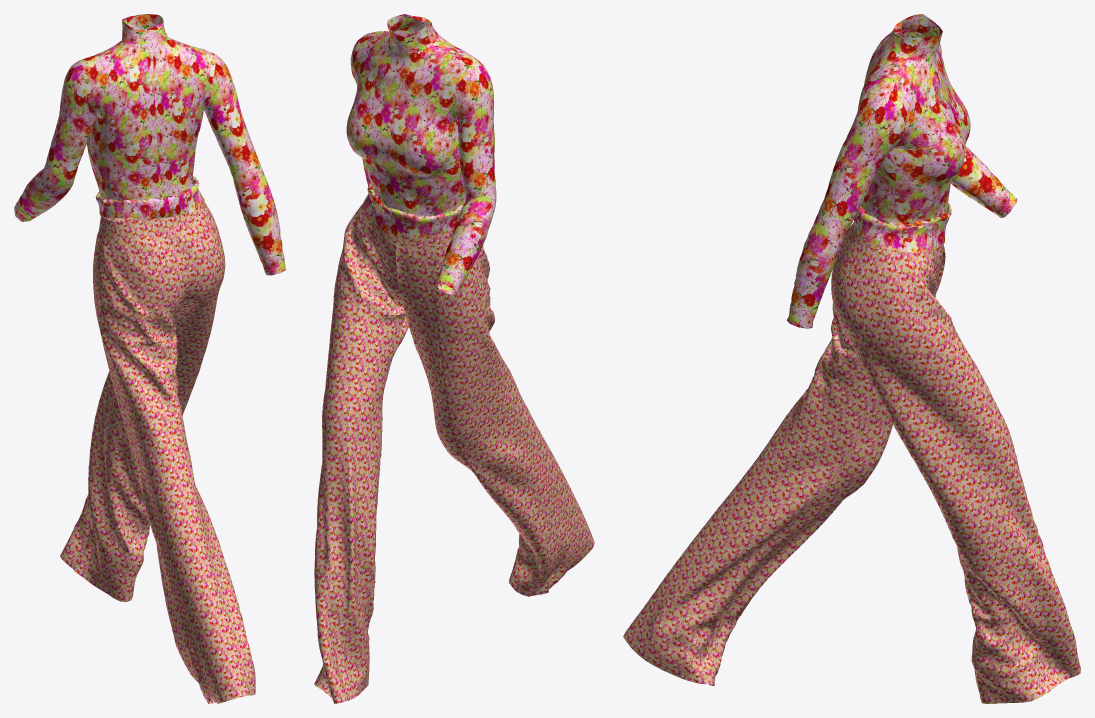
Rendered from DA_HighNeck+WidePants_0000194.obj.
3 renders of one model, left to right at view 1: azimuth 30°, elevation 25°; view 2: azimuth 150°, elevation 25°; view 3: azimuth 270°, elevation 25°, orthographic. The views are drawn at different scales.
Bounding box in the file's own units: 0.4918 × 1.59 × 0.9852.
